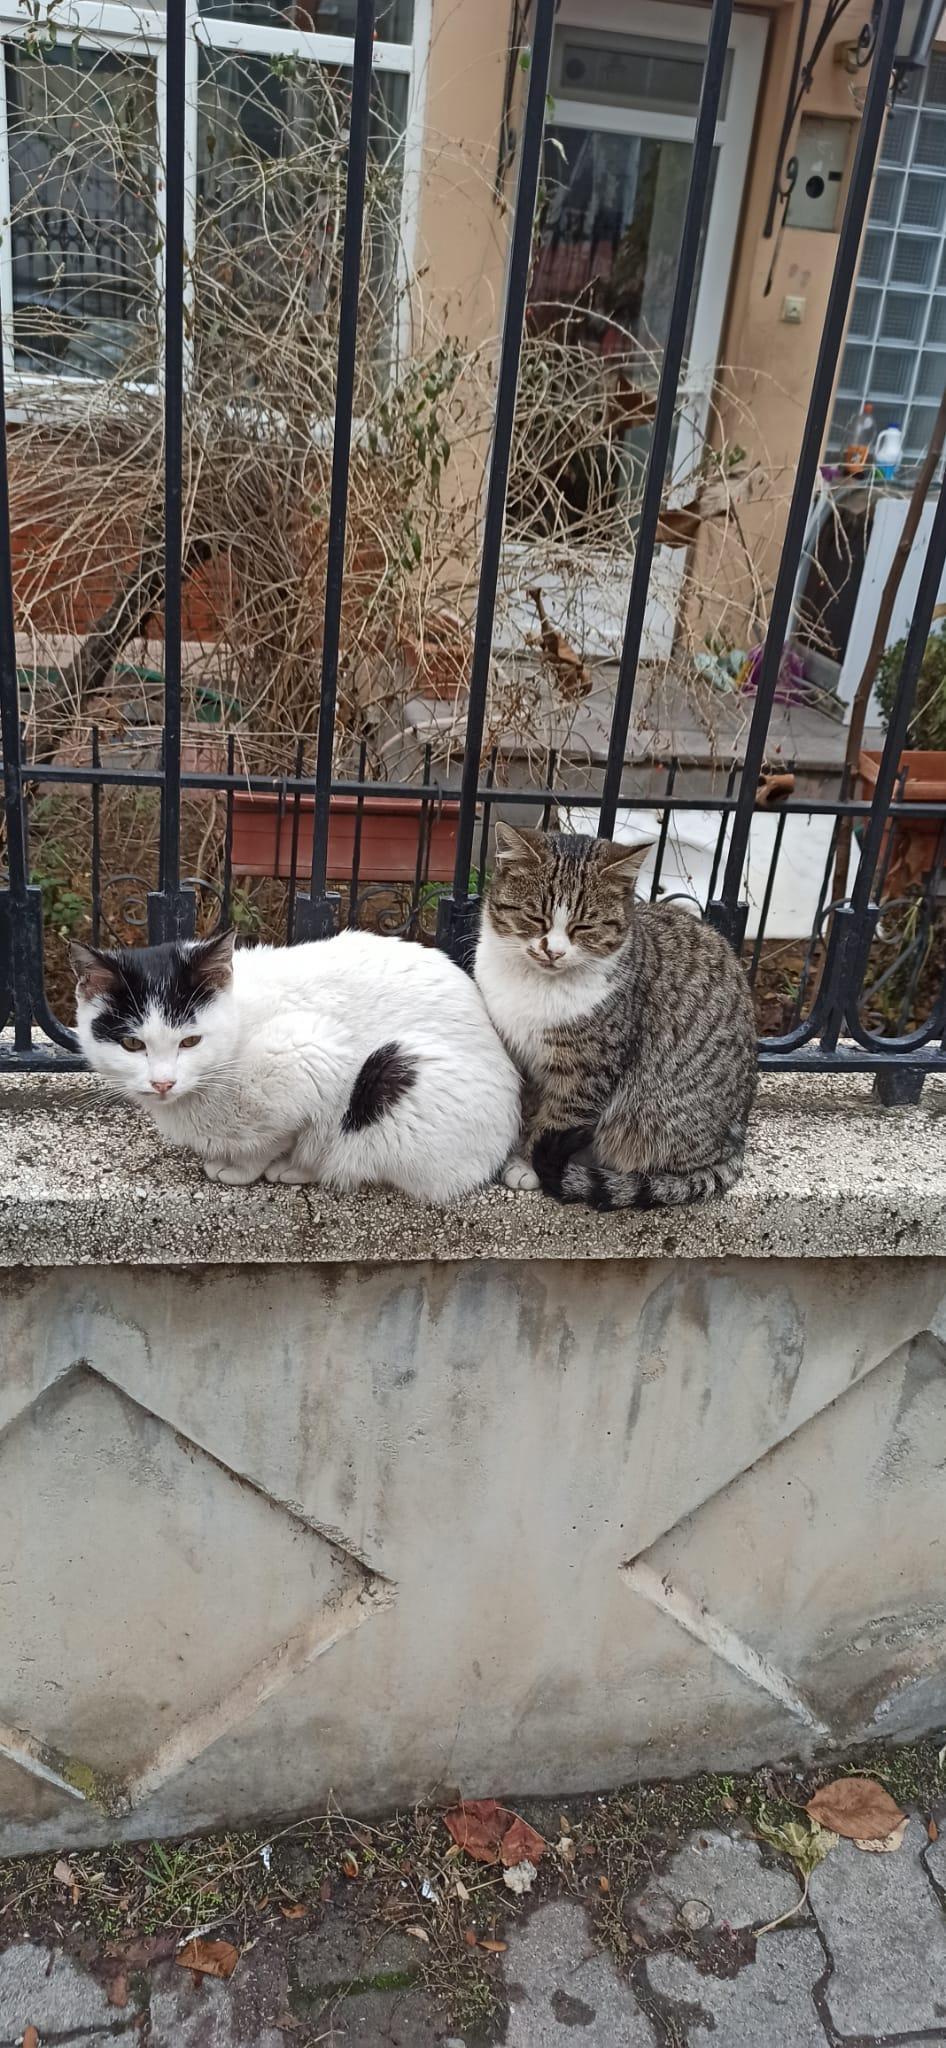kedo: (69, 936, 515, 1203), (472, 820, 751, 1209)
